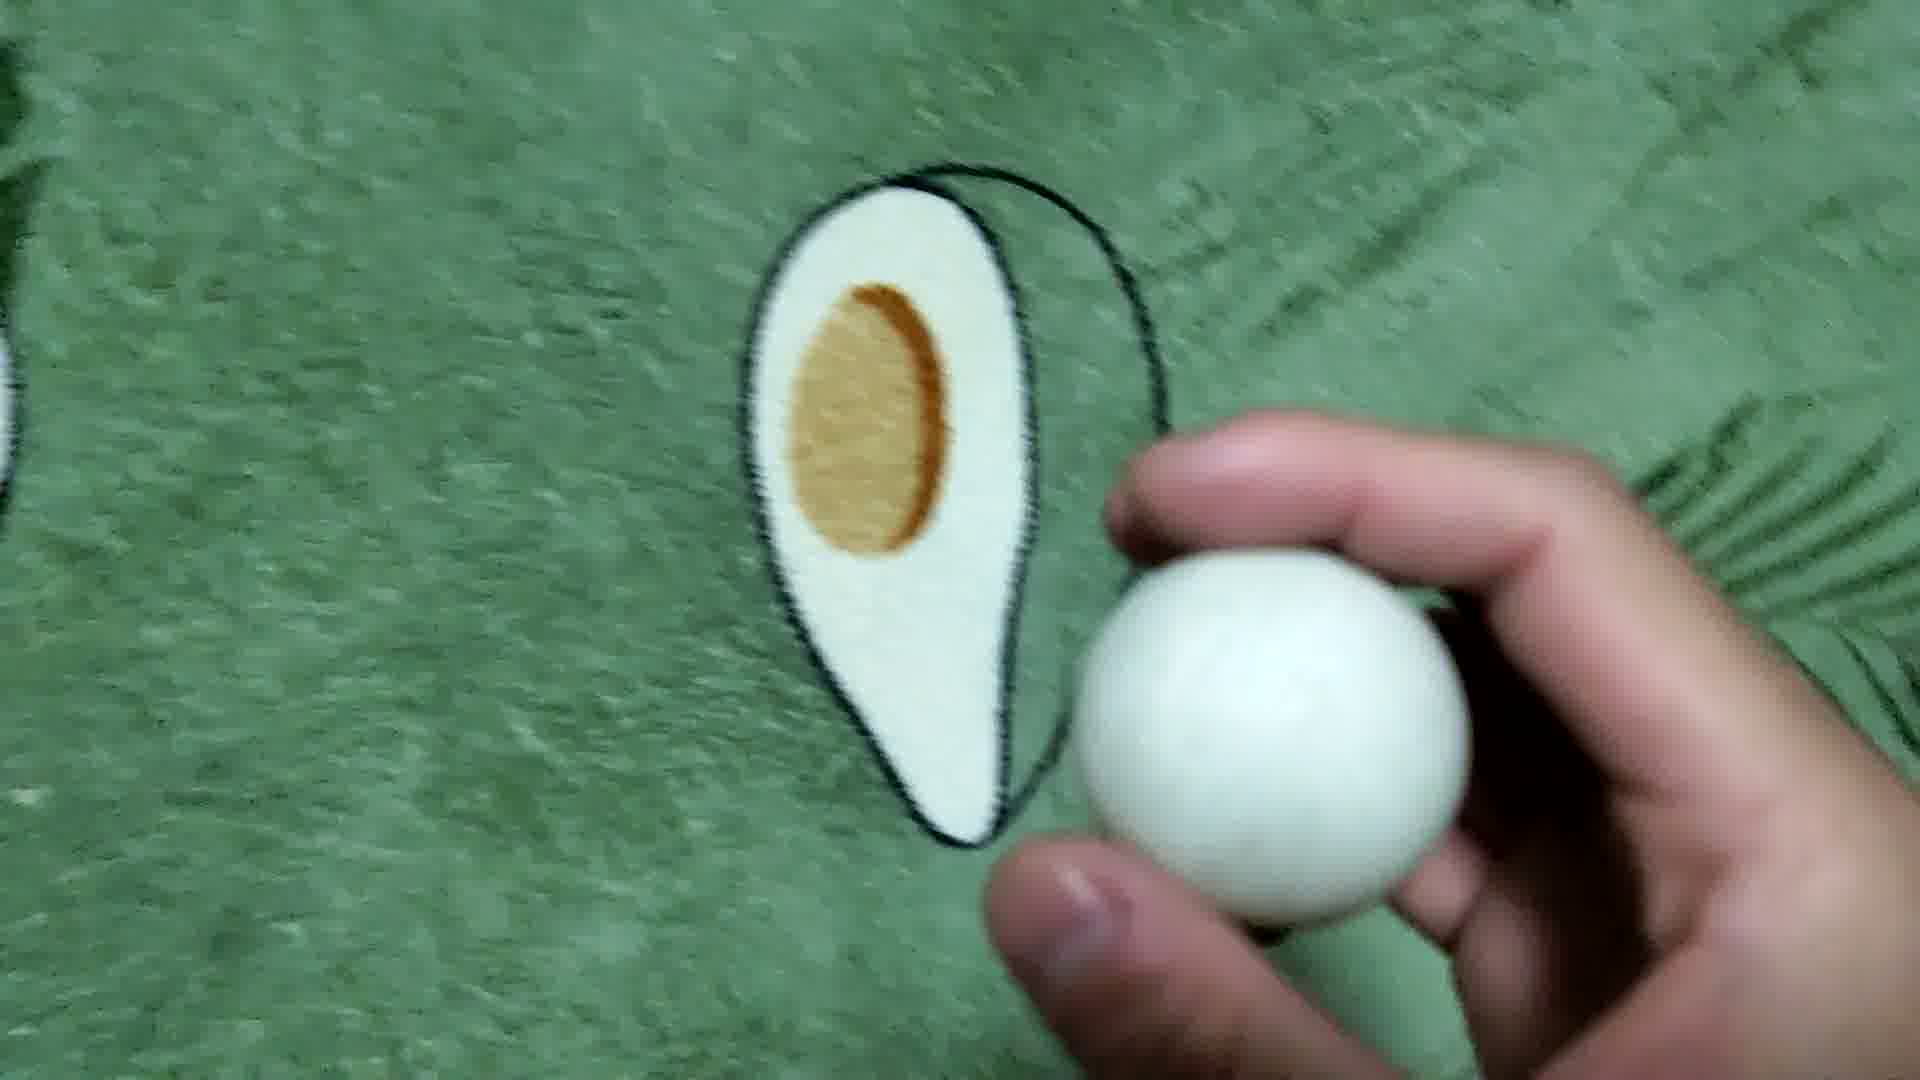Ball: (1080, 545, 1472, 927)
